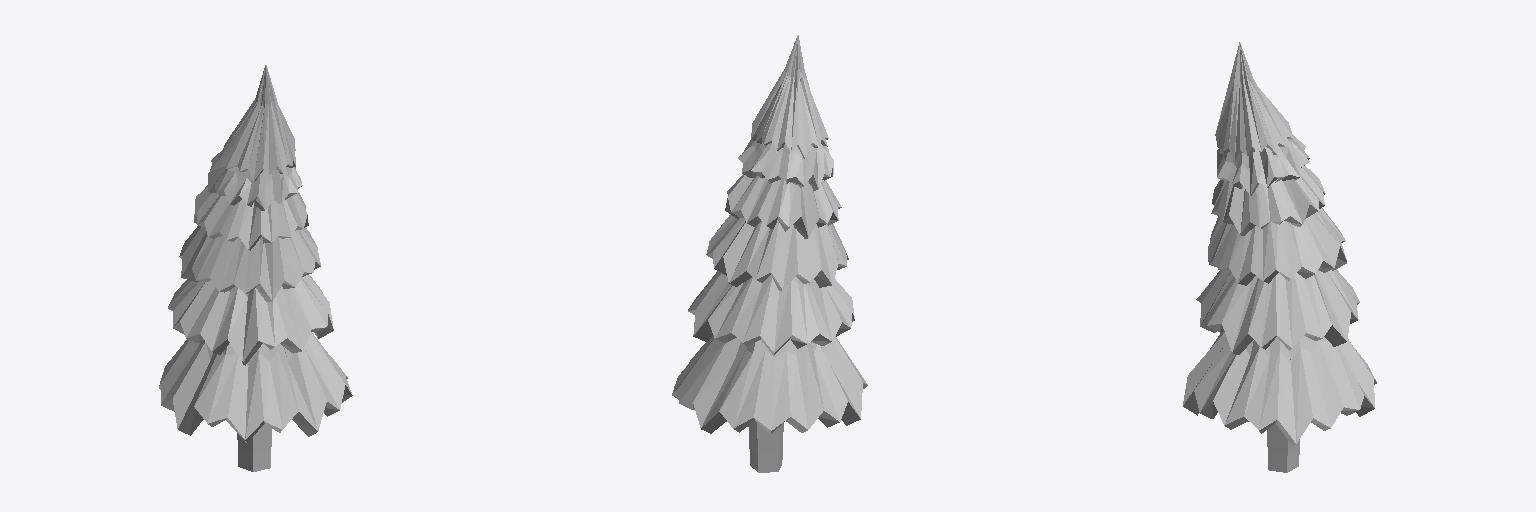
Rendered from Pine_02.obj.
3 views of the same model, side by side, from view 1: azimuth 30°, elevation 25°; view 2: azimuth 150°, elevation 25°; view 3: azimuth 270°, elevation 25° (orthographic).
Parts seen in each view (by area): view 1: Cylinder.001, Cylinder; view 2: Cylinder.001, Cylinder; view 3: Cylinder.001, Cylinder.
Boxes of the visible parts, x1,y1,x2,y2 form: Cylinder.001: [159, 65, 352, 442]; Cylinder: [237, 424, 271, 471]; Cylinder.001: [672, 35, 867, 433]; Cylinder: [748, 421, 783, 472]; Cylinder.001: [1183, 42, 1376, 446]; Cylinder: [1267, 423, 1299, 472].
Bounding box in the file's own units: 2.85 × 6.68 × 2.8.